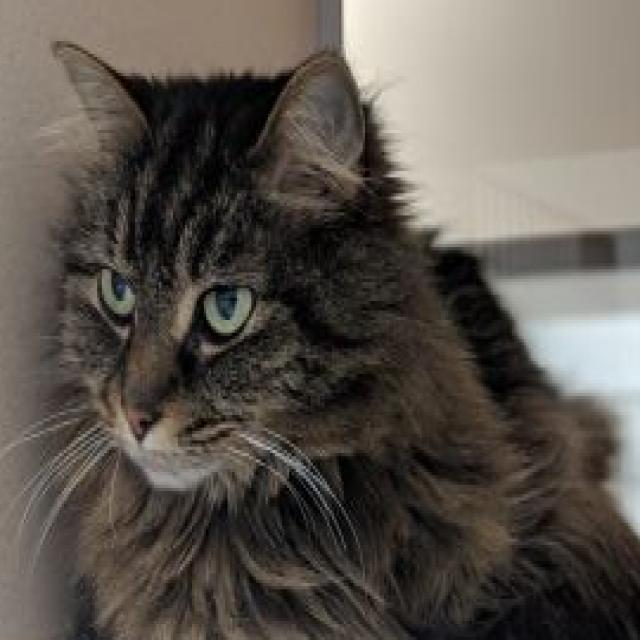Maine Coon: (38, 31, 640, 640)
